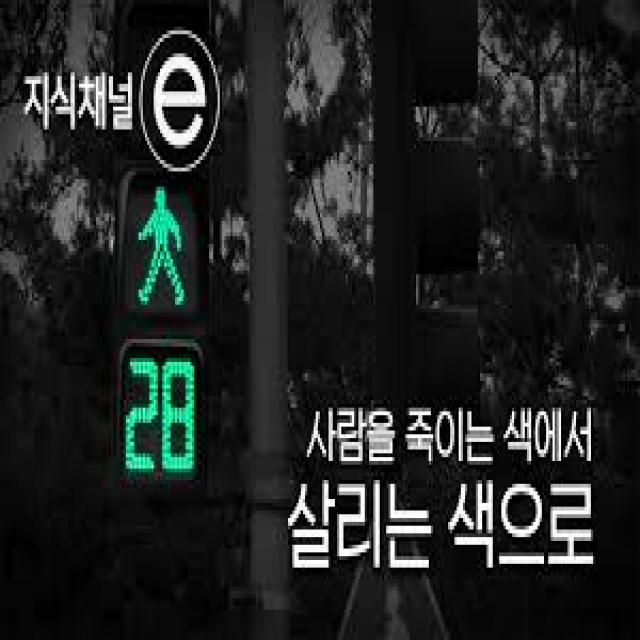Go: (103, 163, 231, 507), (116, 177, 214, 346)
